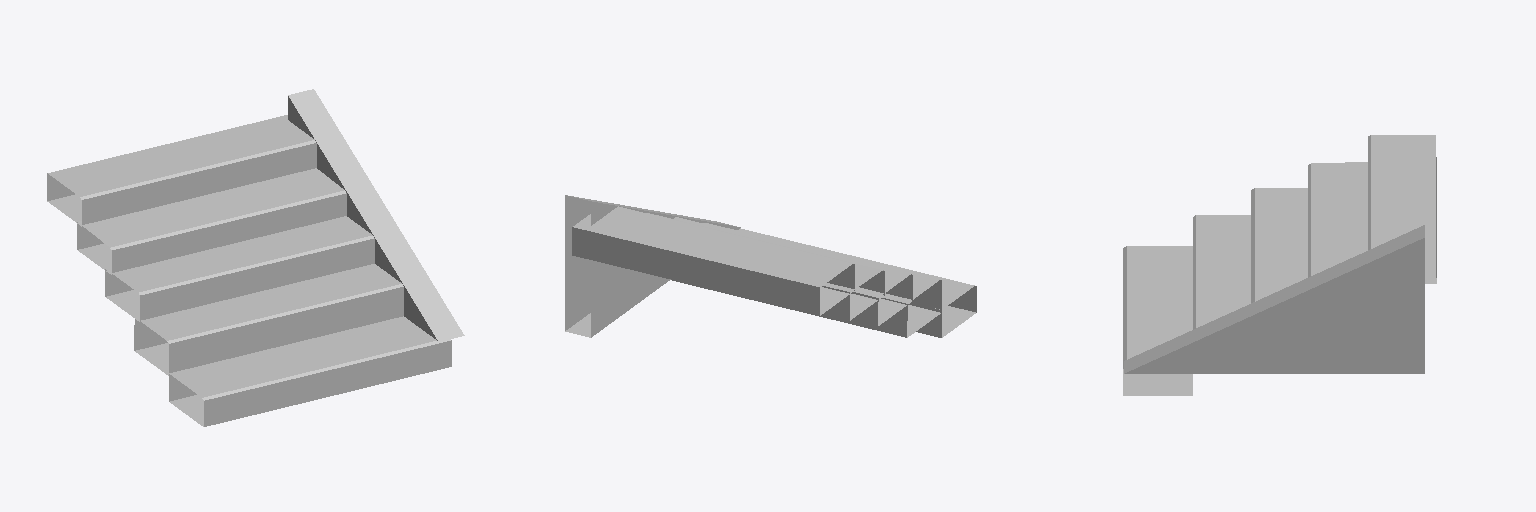
The model's file is Stairs_Exterior_Straight_R.obj.
3 views of the same model, side by side, from view 1: azimuth 30°, elevation 25°; view 2: azimuth 150°, elevation 25°; view 3: azimuth 270°, elevation 25° (orthographic).
Visible parts, largest first — view 1: Stairs_Exterior_Straight_R; view 2: Stairs_Exterior_Straight_R; view 3: Stairs_Exterior_Straight_R.
Part boxes in pixels (x1,y1,x2,y2): Stairs_Exterior_Straight_R: (47, 89, 464, 426); Stairs_Exterior_Straight_R: (565, 195, 976, 337); Stairs_Exterior_Straight_R: (1123, 135, 1436, 395).
Bounding box in the file's own units: 2 × 1.2 × 2.08.